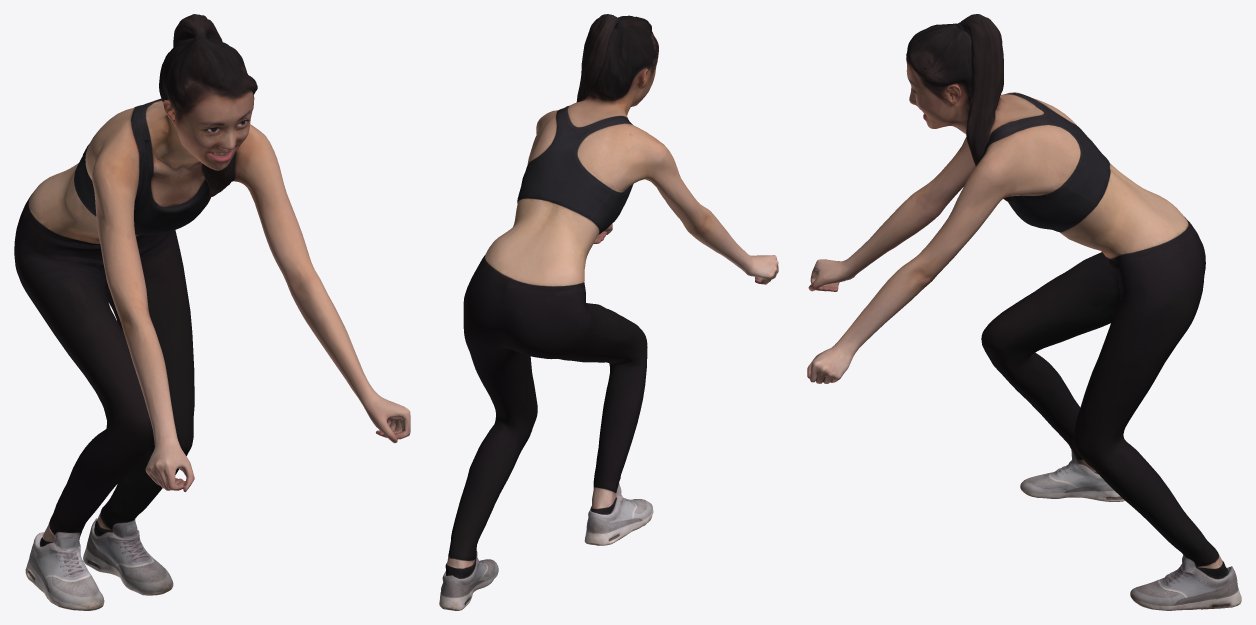
The model's file is jade.obj.
3 renders of one model, left to right at view 1: azimuth 30°, elevation 25°; view 2: azimuth 150°, elevation 25°; view 3: azimuth 270°, elevation 25°, orthographic. The views are drawn at different scales.
Parts seen in each view (by area): view 1: rp_jade_posed_010_30k; view 2: rp_jade_posed_010_30k; view 3: rp_jade_posed_010_30k.
Boxes of the visible parts, box(x1,y1,x2,y2) form: rp_jade_posed_010_30k: box(14, 14, 410, 610); rp_jade_posed_010_30k: box(439, 14, 778, 610); rp_jade_posed_010_30k: box(807, 14, 1241, 610).
Size of the model in its own units: 0.5335 by 1.34 by 0.9332.
Materials: 1 (1 with a texture image).
